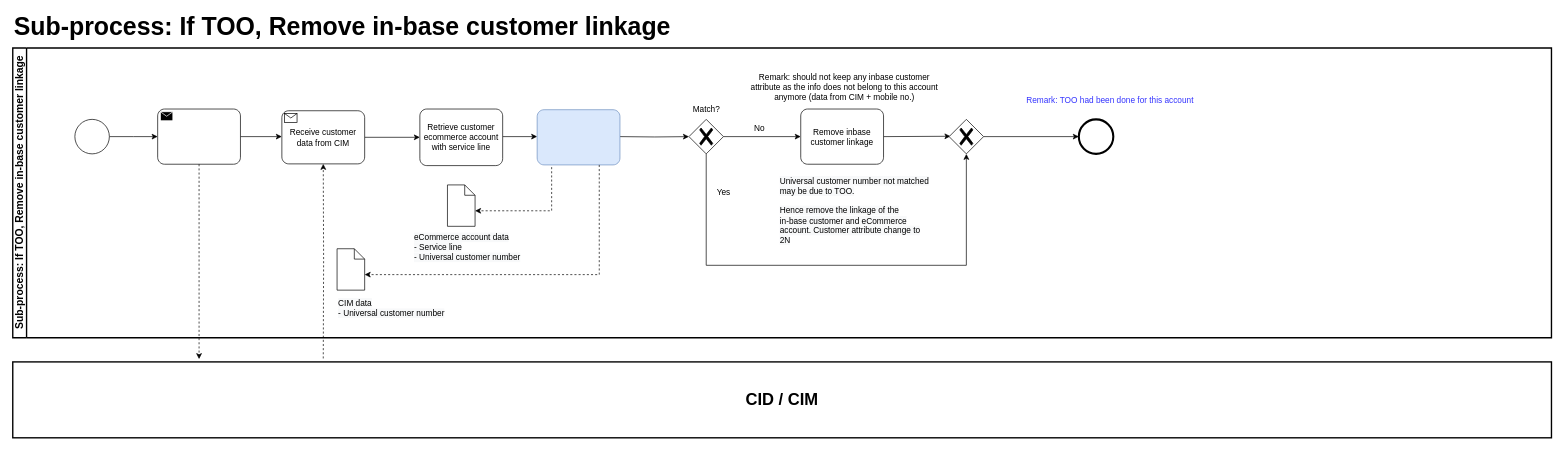
This 1564x451 diagram has some shape labels left out. The shapes that lost their labels are listed below. From the top down, each one's centre as x and y in pixels, then its label:
the point at 198,136: Get customer data from CIM with service line
the point at 578,137: Compare universal customer number between eCommerce and CIM
